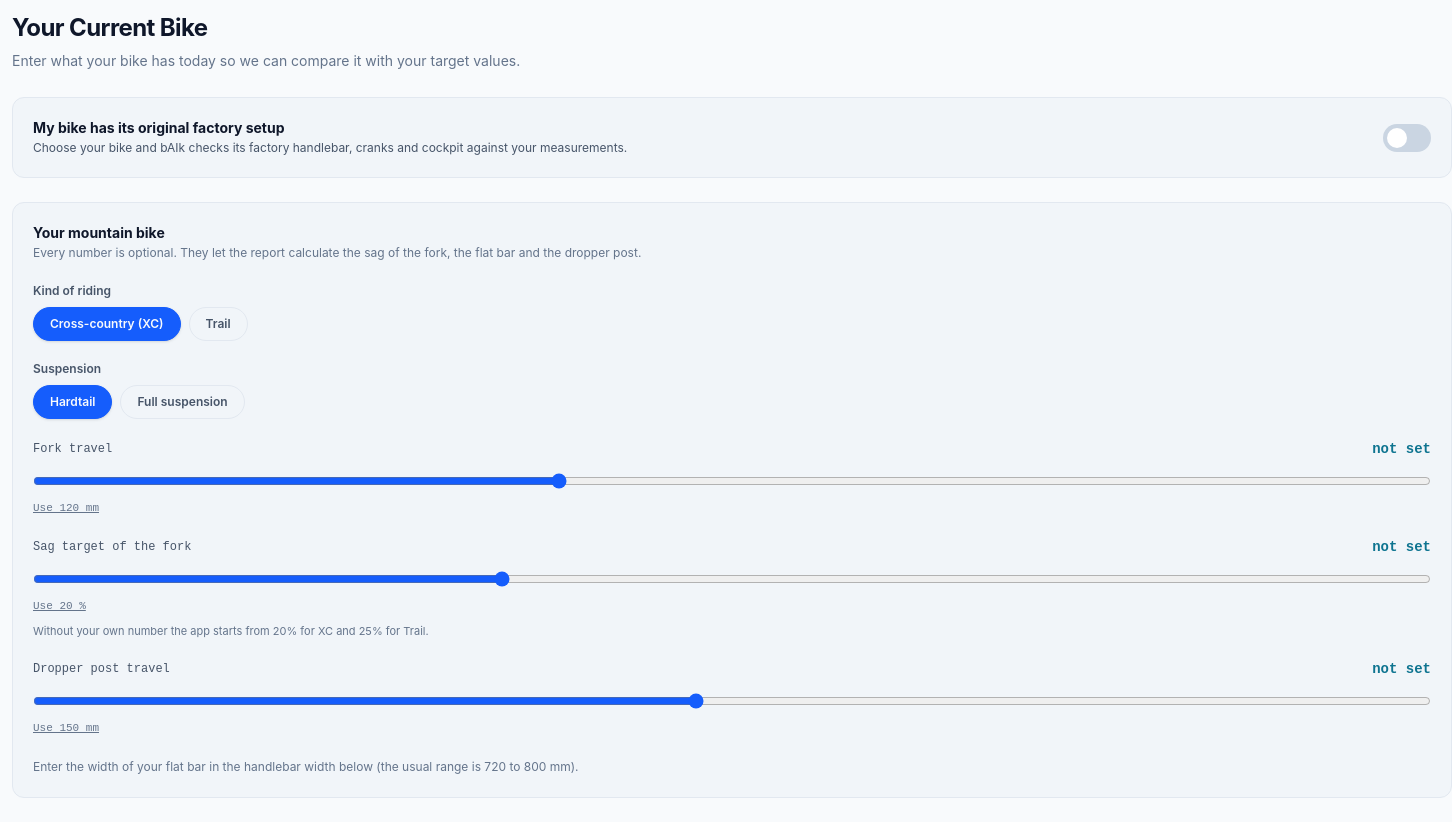
Test: MTB setup in the wizard (en) › should change the kind, the suspension and the numbers, and clear a number again
Click the button "Trail" at point(218, 324), box 189,307 -> 248,341
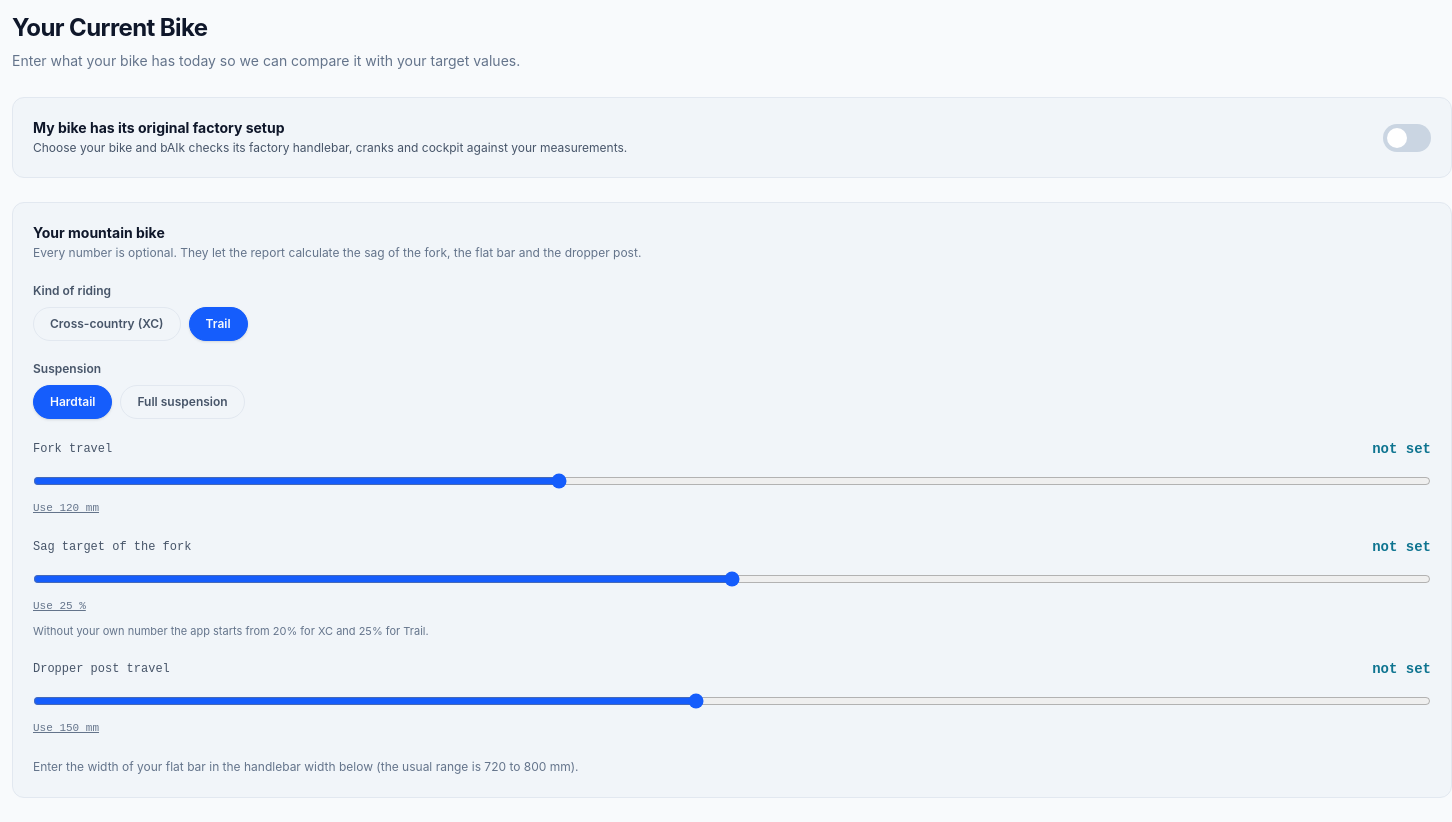
Now the button "Trail" is pressed, box 189,307 -> 248,341
Click the button "Full suspension" at point(183, 402), box 120,385 -> 245,419
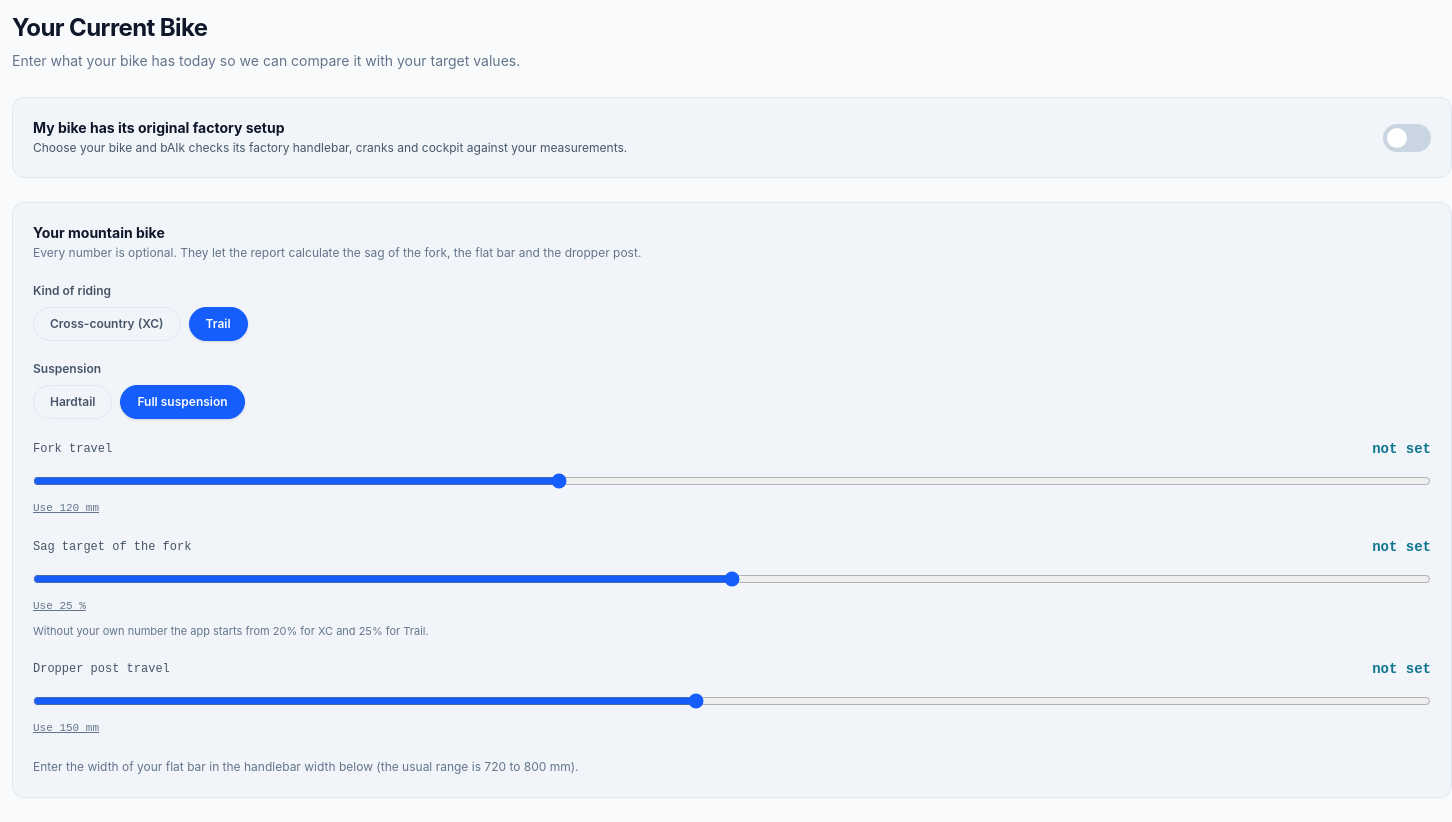
Expected: the element with test id "mtb-setup" shows "not set", 1372,441 -> 1431,457
Now the button "Full suspension" is pressed, box 120,385 -> 245,419
Set the slider labelled "Fork travel" to "140" at point(732, 481), box 33,477 -> 1431,485
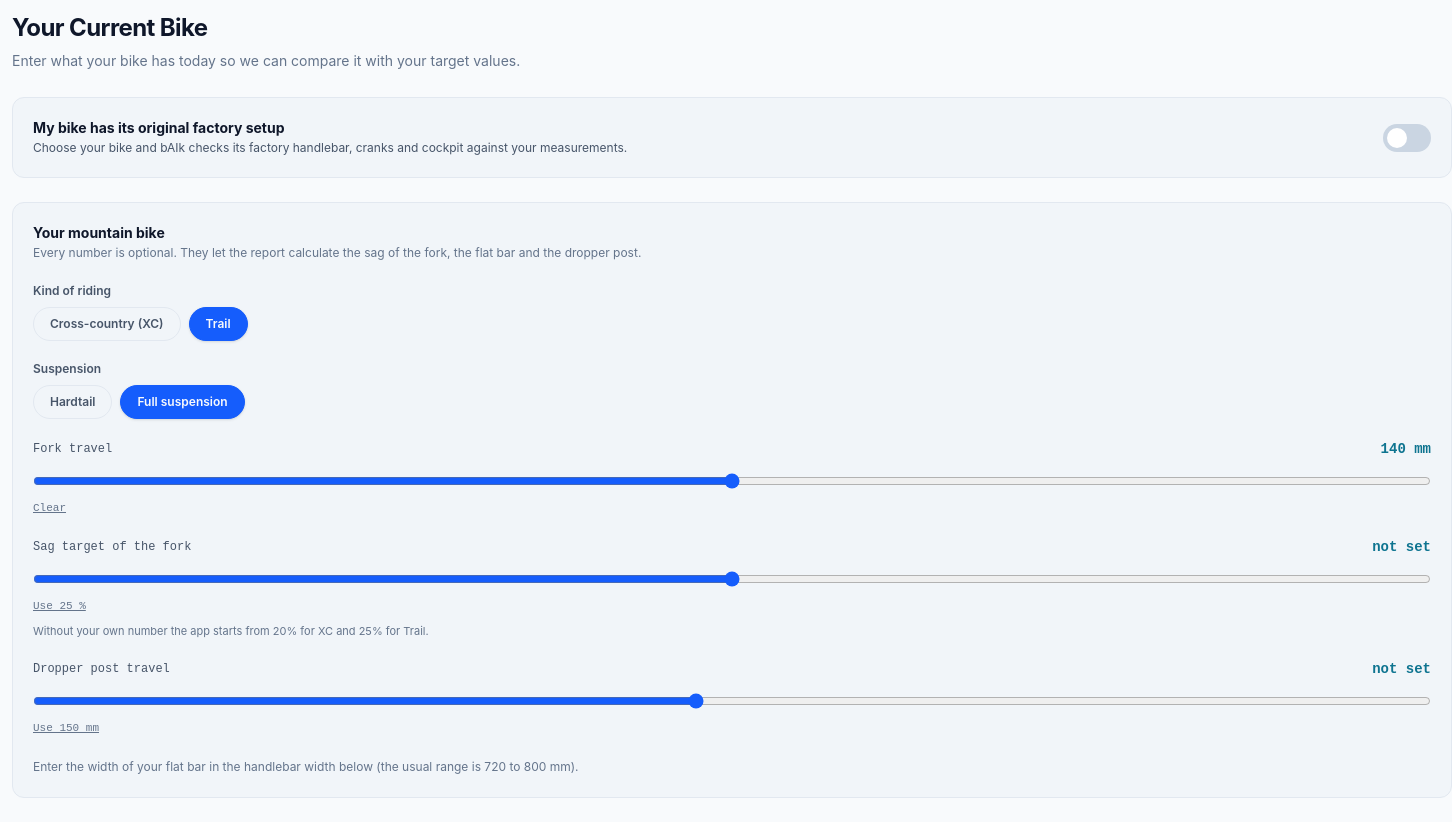
Now the element with test id "mtb-setup" shows "140 mm", box 1381,441 -> 1431,457
Click the button "Clear" at point(50, 508), box 33,500 -> 66,516
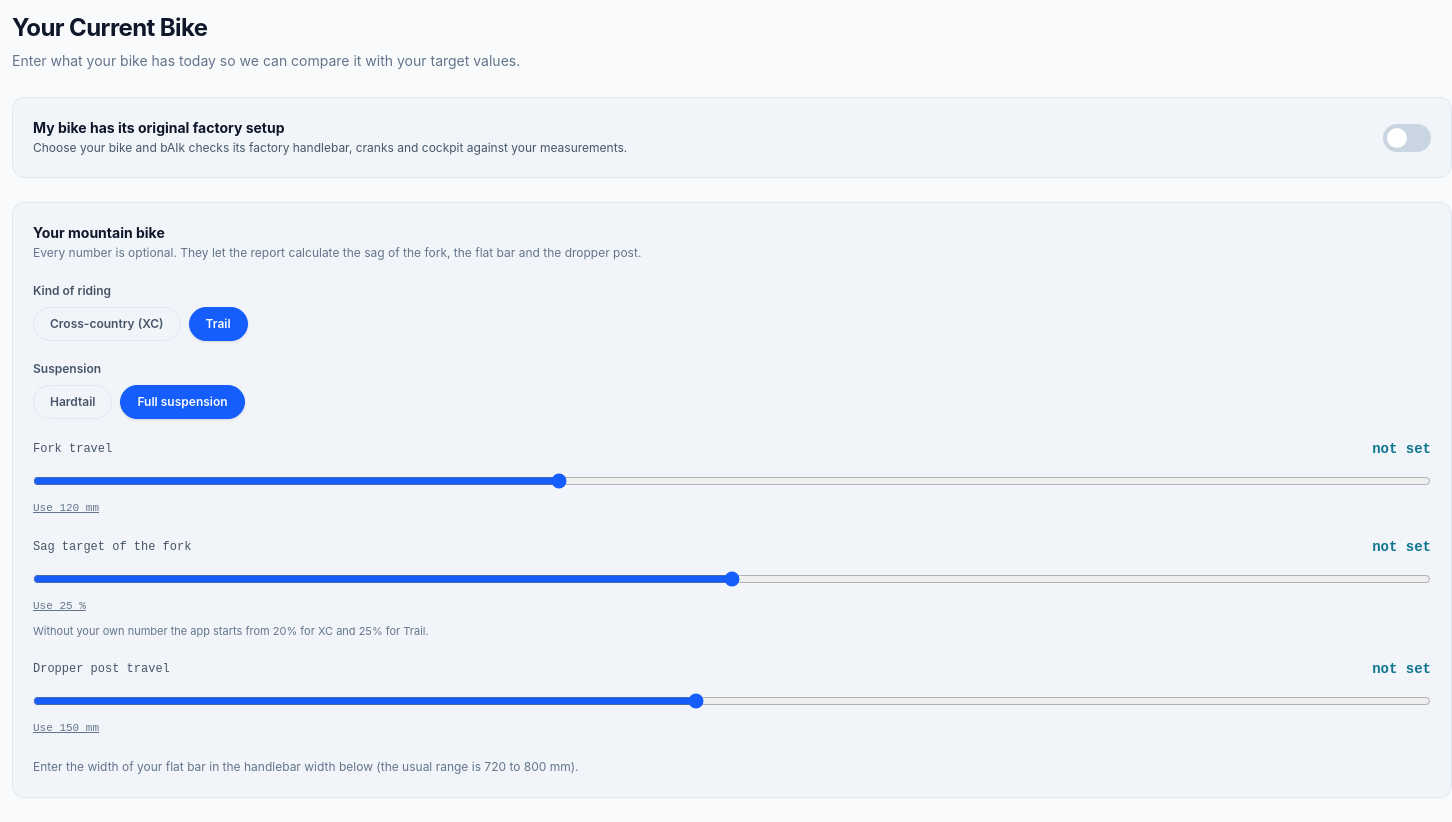
Now the element with test id "mtb-setup" no longer shows "140 mm"
